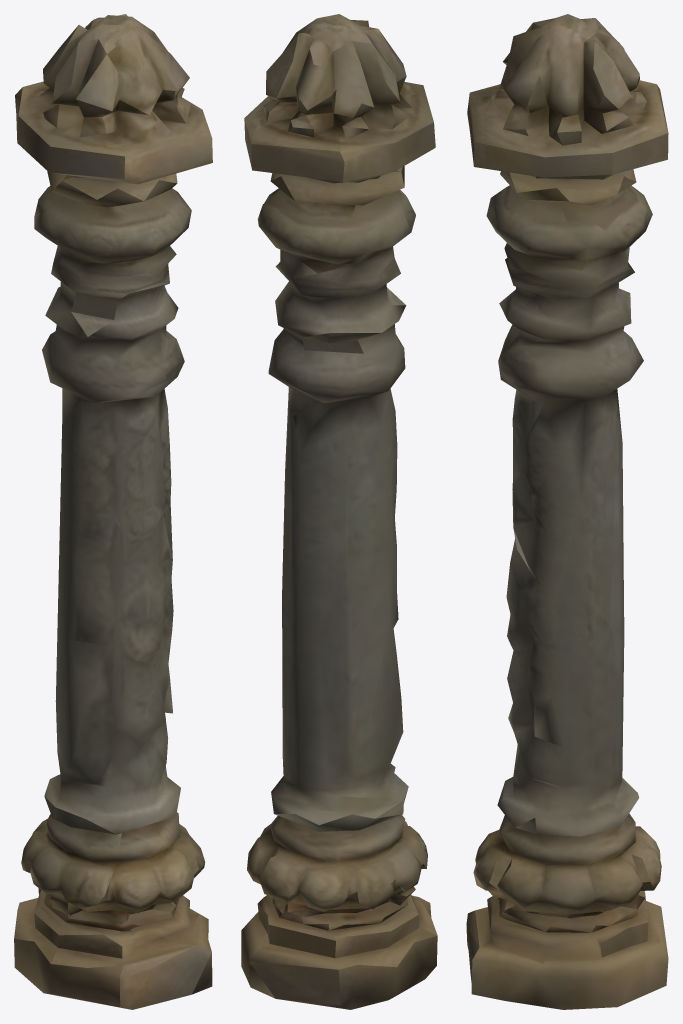
Rendered from pillar2.glb.
3 renders of one model, left to right at view 1: azimuth 30°, elevation 25°; view 2: azimuth 150°, elevation 25°; view 3: azimuth 270°, elevation 25°, orthographic.
Visible parts, largest first — view 1: pillar002; view 2: pillar002; view 3: pillar002.
Boxes of the visible parts, x1,y1,x2,y2 form: pillar002: (14, 14, 212, 1009); pillar002: (241, 14, 437, 1009); pillar002: (466, 14, 668, 1009).
Bounding box in the file's own units: 0.1336 × 0.7548 × 0.1442.
1 material, 1 textured.
